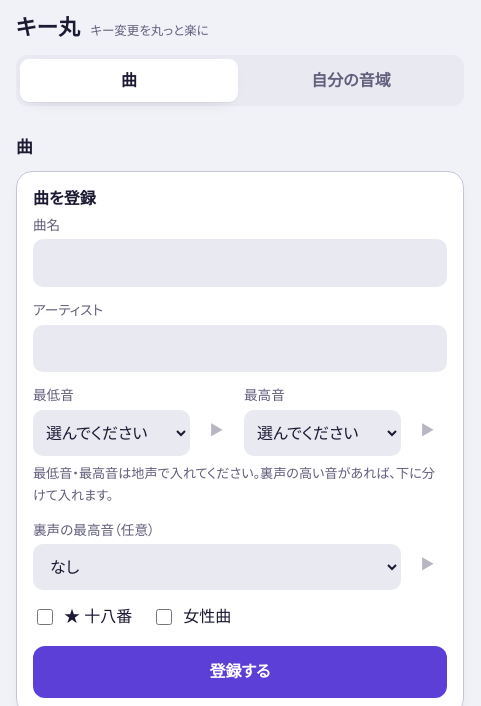
Test: 自分の音域の図 › 裏声の最高音が地声より低ければ、ピンクの部分は描かず、文字だけ出す
Click the button "自分の音域". click: (351, 80)
box: [242,58,460,102]
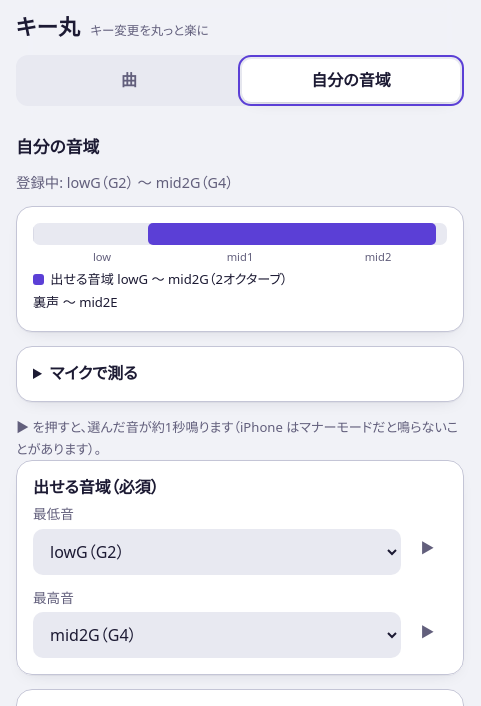
Check: the text "裏声 〜 mid2E" is shown, box [33,294,118,312]
